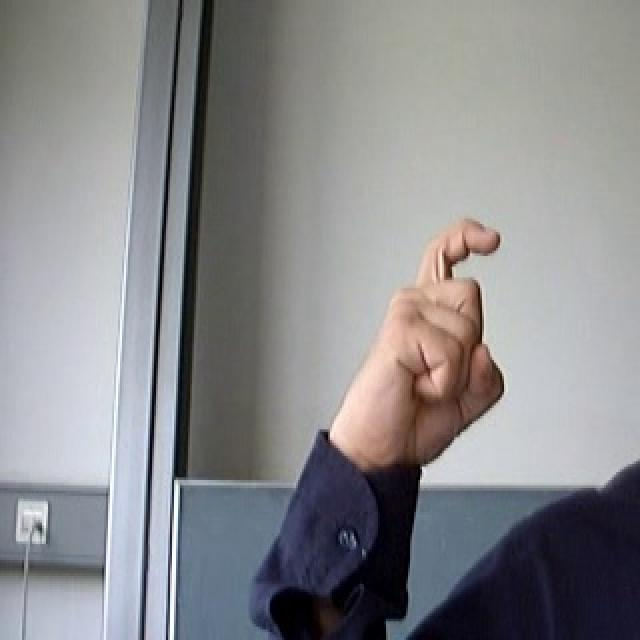X: (323, 202, 518, 475)
